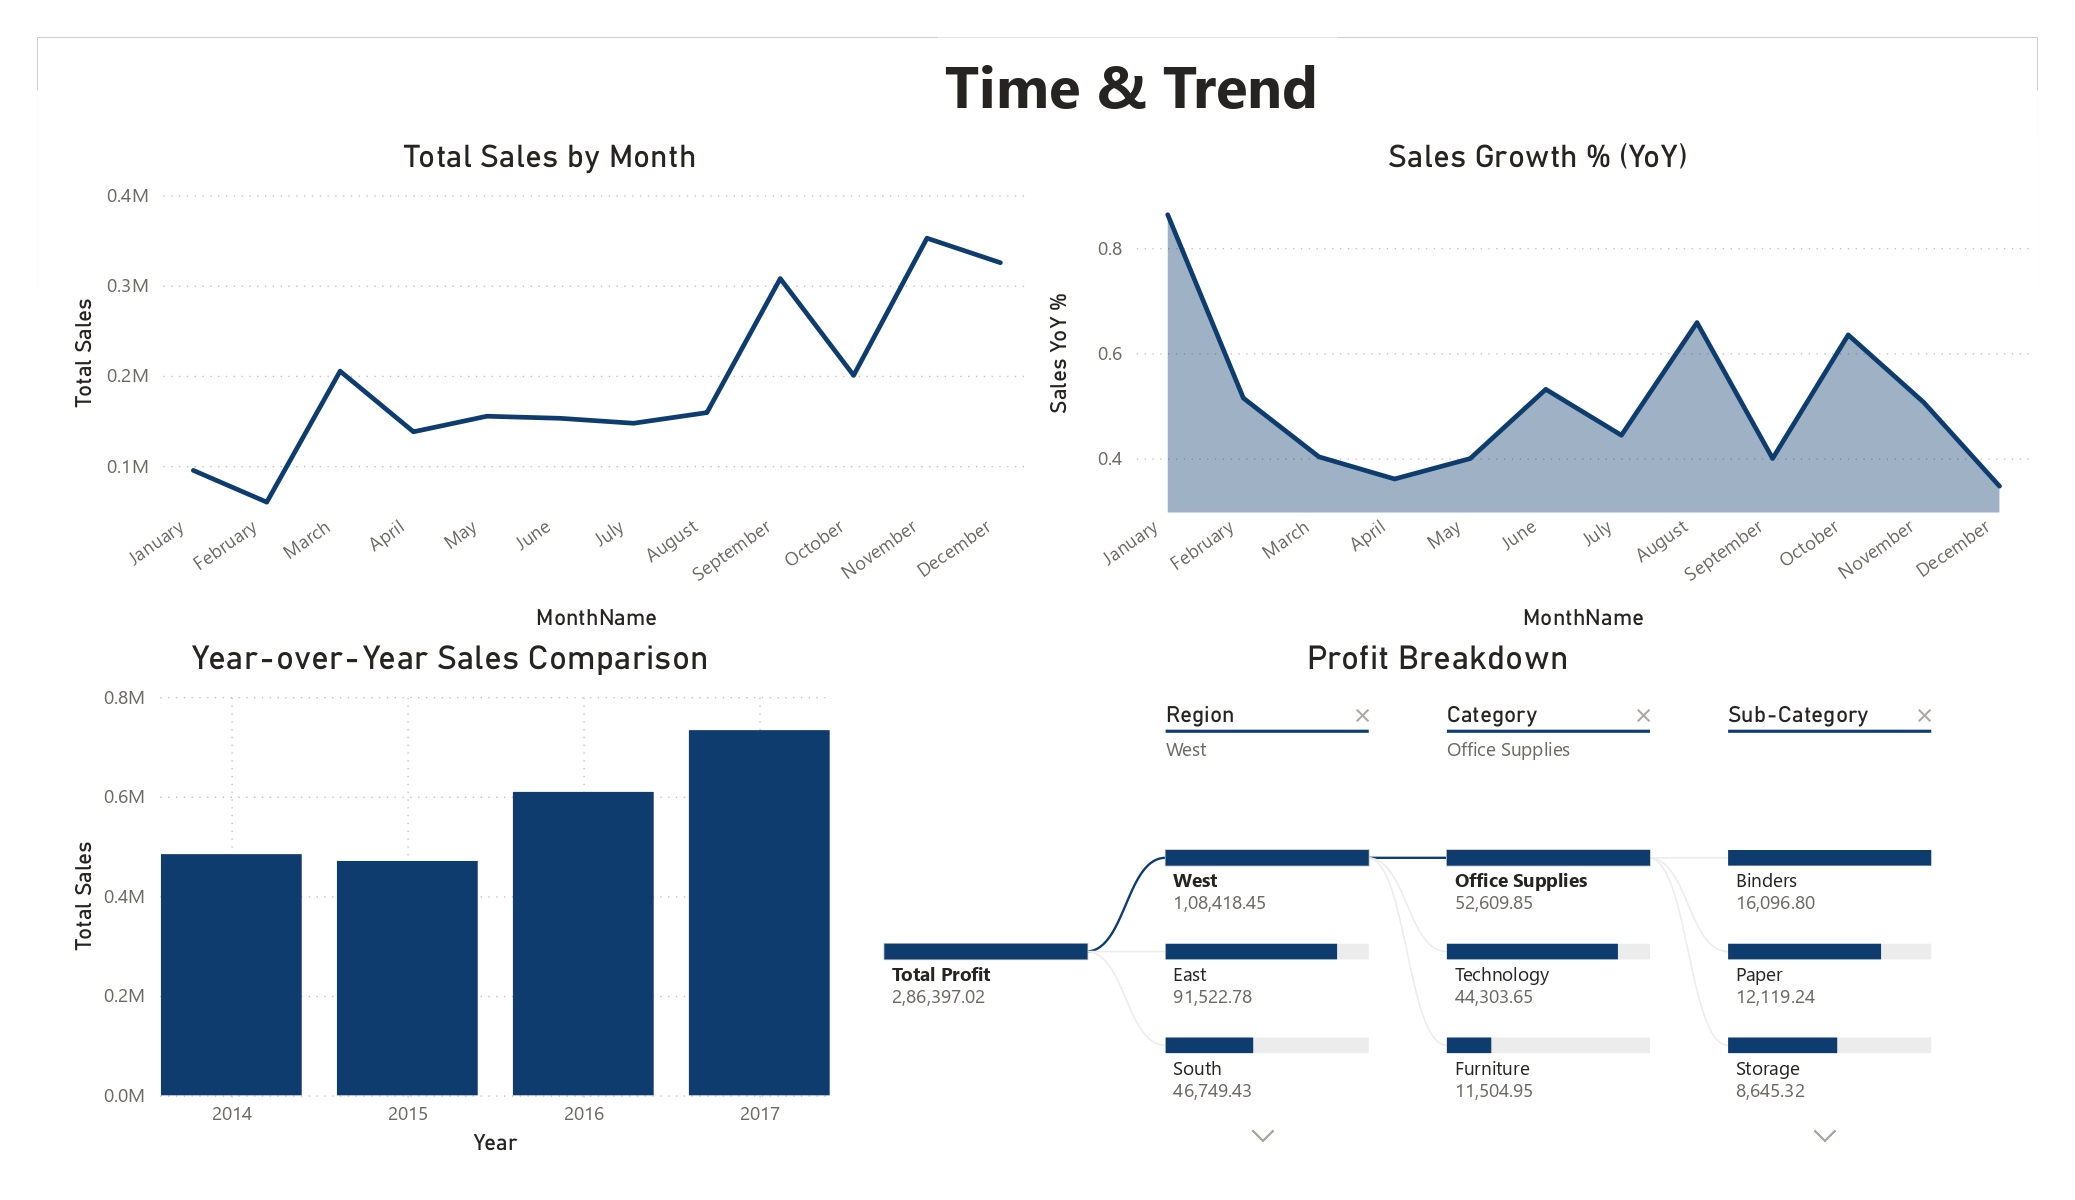

What the dashboard file says about the page in this screenshot:
{"tool":"powerbi","page":{"name":"Time and Trend","canvas":[1280,720],"ordinal":2},"visuals":[{"type":"lineChart","title":"Total Sales by Month","fields":{"Category":["Date.MonthName"],"Y":["MeasuresTable.Total Sales"]},"box":[16,64,624,320],"z":0},{"type":"clusteredColumnChart","title":"Year-over-Year Sales Comparison","fields":{"Category":["Date.Year"],"Y":["MeasuresTable.Total Sales"]},"box":[16,384,496,336],"z":1000},{"type":"areaChart","title":"Sales Growth % (YoY)","fields":{"Category":["Date.MonthName"],"Y":["MeasuresTable.Sales YoY %"]},"box":[640,64,640,320],"z":2000},{"type":"decompositionTreeVisual","title":"Profit Breakdown","fields":{"Analyze":["MeasuresTable.Total Profit"],"ExplainBy":["Superstore Dataset.Region","Superstore Dataset.Category","Superstore Dataset.Sub-Category"]},"box":[512,384,768,336],"z":3000},{"type":"textbox","box":[576,0,256,64],"z":4000}]}

Visuals, with their boxes in screenshot pixels (x1, y1, x2, y2):
"Total Sales by Month" lineChart: rect(62, 138, 1038, 638)
"Year-over-Year Sales Comparison" clusteredColumnChart: rect(62, 638, 838, 1162)
"Sales Growth % (YoY)" areaChart: rect(1038, 138, 2038, 638)
"Profit Breakdown" decompositionTreeVisual: rect(838, 638, 2038, 1162)
textbox: rect(938, 38, 1338, 138)
